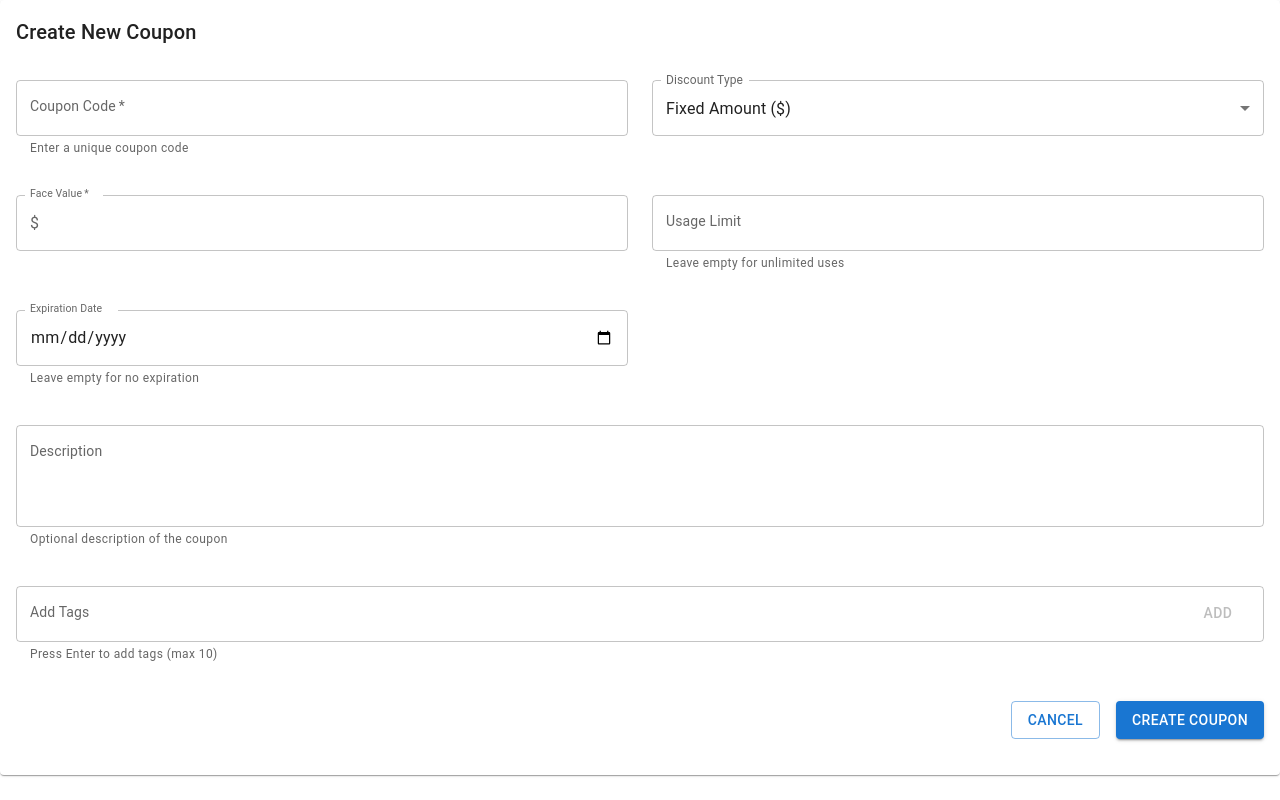
Test: CouponForm Basic Tests › validates required fields
What coordinates should you click on to do the following:
click the button "Create Coupon"
I would click on:
 (1190, 720)
Its box is x1=1116 y1=700 x2=1264 y2=739.
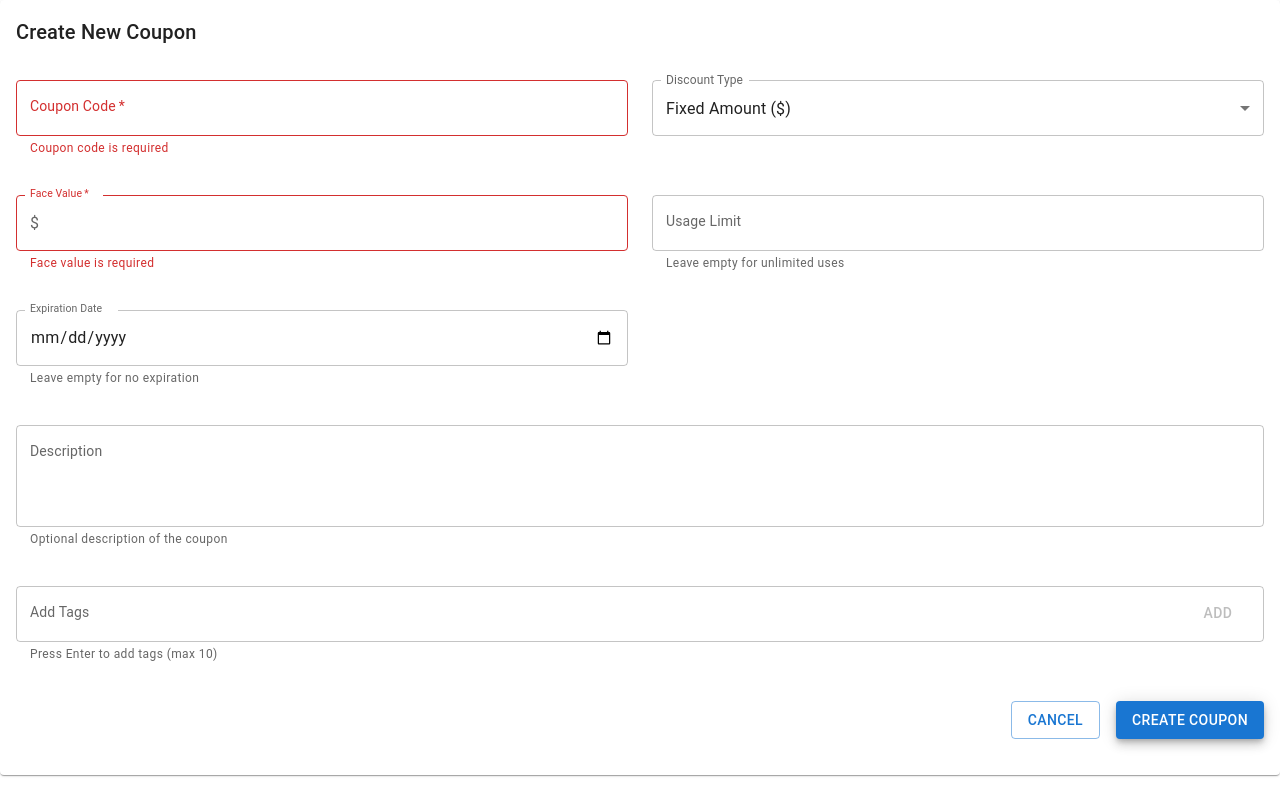
Result: the text "Coupon code is required" is shown at x1=30 y1=141 x2=169 y2=155
Result: the text "Face value is required" is shown at x1=30 y1=256 x2=154 y2=270
